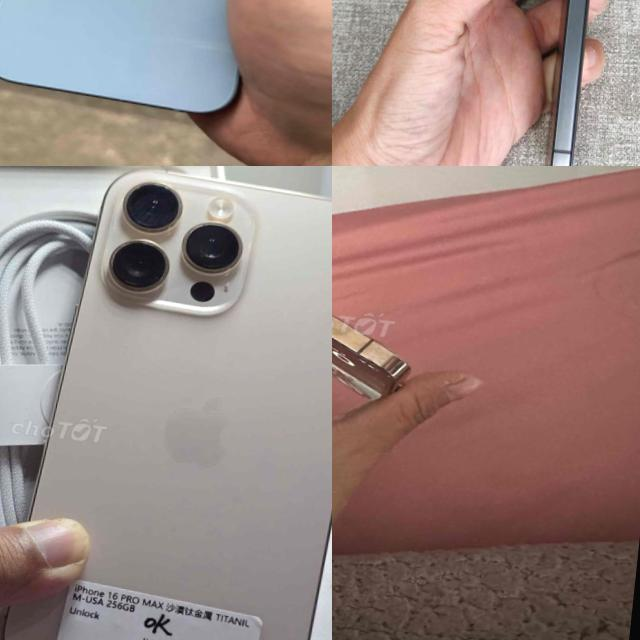gen_12_13: (332, 255, 436, 411)
gen_14: (0, 0, 310, 127)
gen_15: (511, 0, 639, 166)
gen_16: (0, 166, 332, 640)
